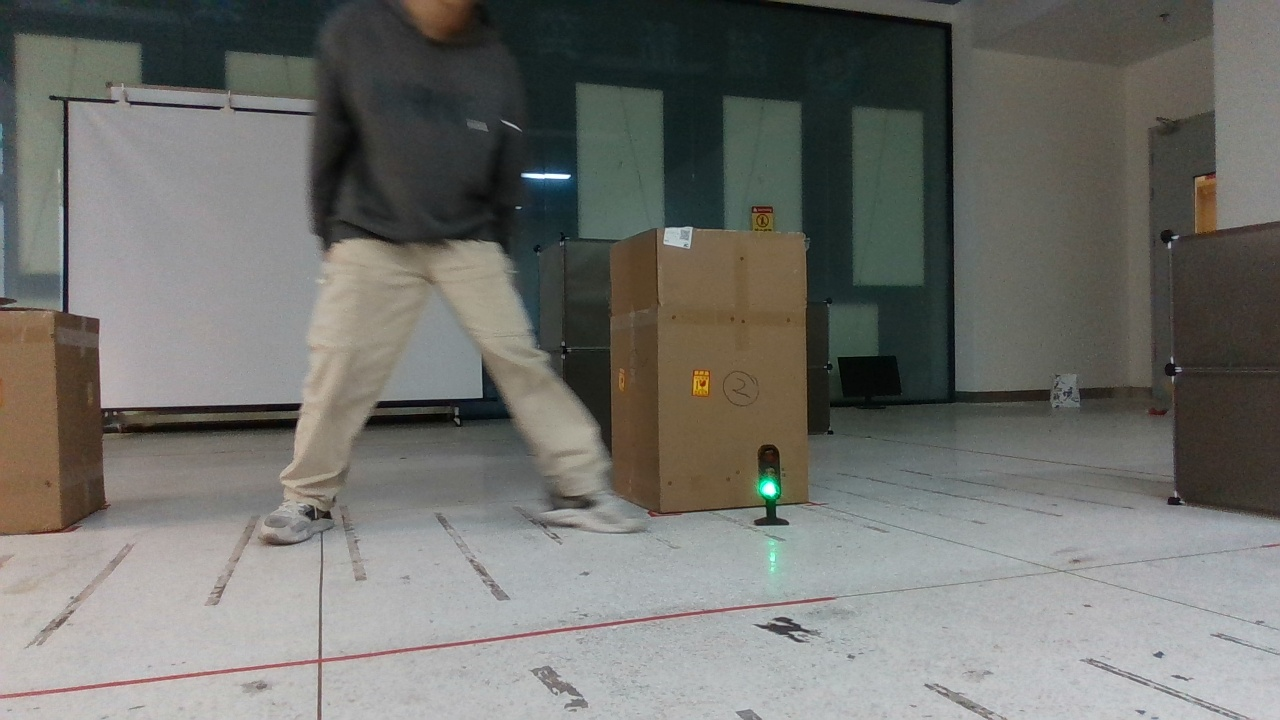green_light: (749, 437, 791, 529)
